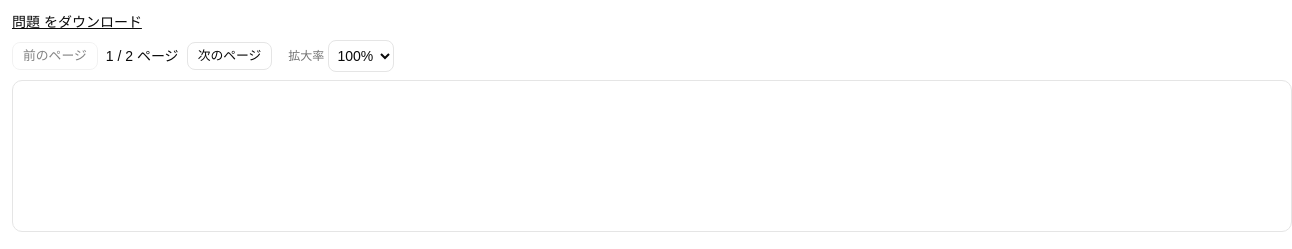
Test case: PdfPreview › renders pages with navigation and a persistent download link
The width and height of the screenshot is (1292, 249).
Expected: the text "1 / 2 ページ" is shown, [106, 46, 179, 66]
Expected: the button "前のページ" is disabled, [12, 42, 98, 70]
Click the button "次のページ" at (229, 56), box [187, 42, 272, 70]
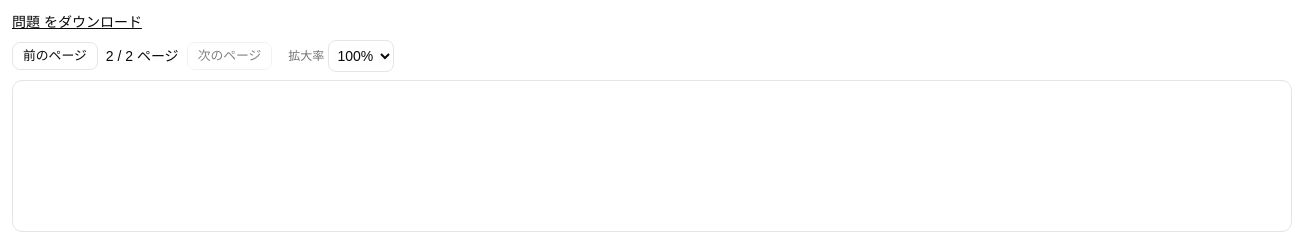
Result: the text "2 / 2 ページ" is shown at [106, 46, 179, 66]
Result: the button "次のページ" is disabled at [187, 42, 272, 70]
